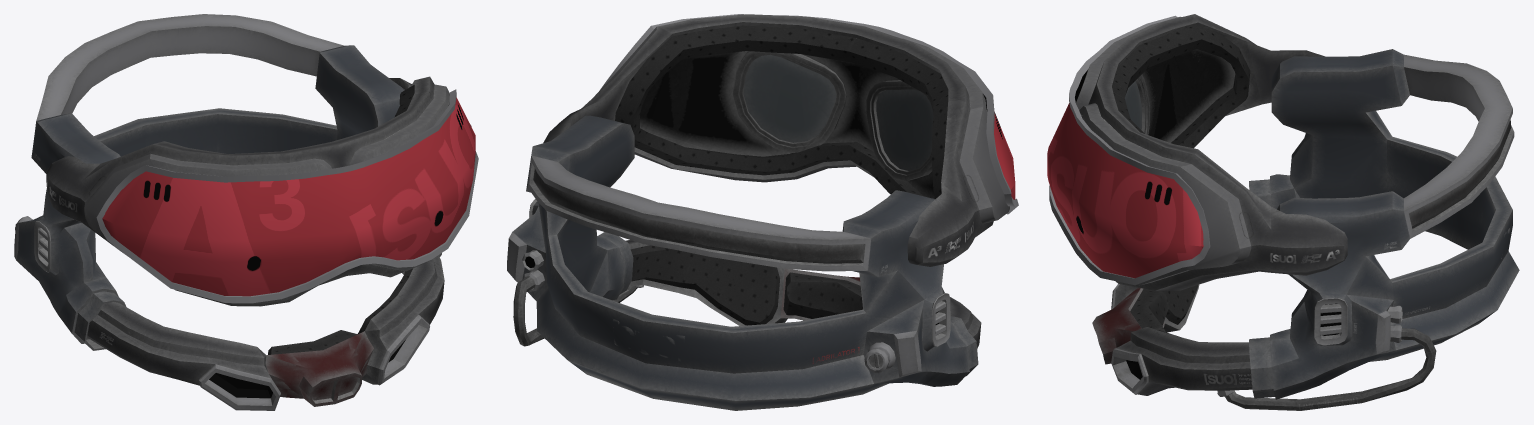
File: suo-a3-combine.glb
3 views of the same model, side by side, from view 1: azimuth 30°, elevation 25°; view 2: azimuth 150°, elevation 25°; view 3: azimuth 270°, elevation 25° (orthographic). The views are drawn at different scales.
Parts seen in each view (by area): view 1: Combined, Front_Add_(A3), A3; view 2: Combined, A3, Front_Add_(A3); view 3: Combined, A3, Front_Add_(A3).
Part boxes in pixels (box(x1,y1,x2,y2)): Combined: box(14, 14, 444, 410); Front_Add_(A3): box(96, 89, 478, 303); A3: box(46, 76, 449, 306); Combined: box(507, 115, 981, 410); A3: box(543, 14, 1009, 266); Front_Add_(A3): box(600, 14, 1018, 214); Combined: box(1092, 49, 1519, 410); A3: box(1076, 14, 1347, 290); Front_Add_(A3): box(1047, 15, 1210, 285).
Size of the model in its own units: 1.43 by 0.97 by 1.51.
Materials: 3 (3 with a texture image).
